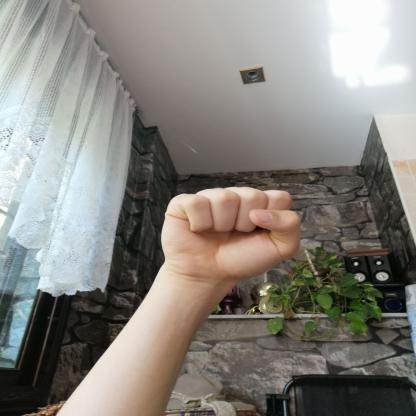SAD: (142, 175, 319, 289)
